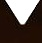dialog_hint_inverted: (5, 1, 39, 26)
